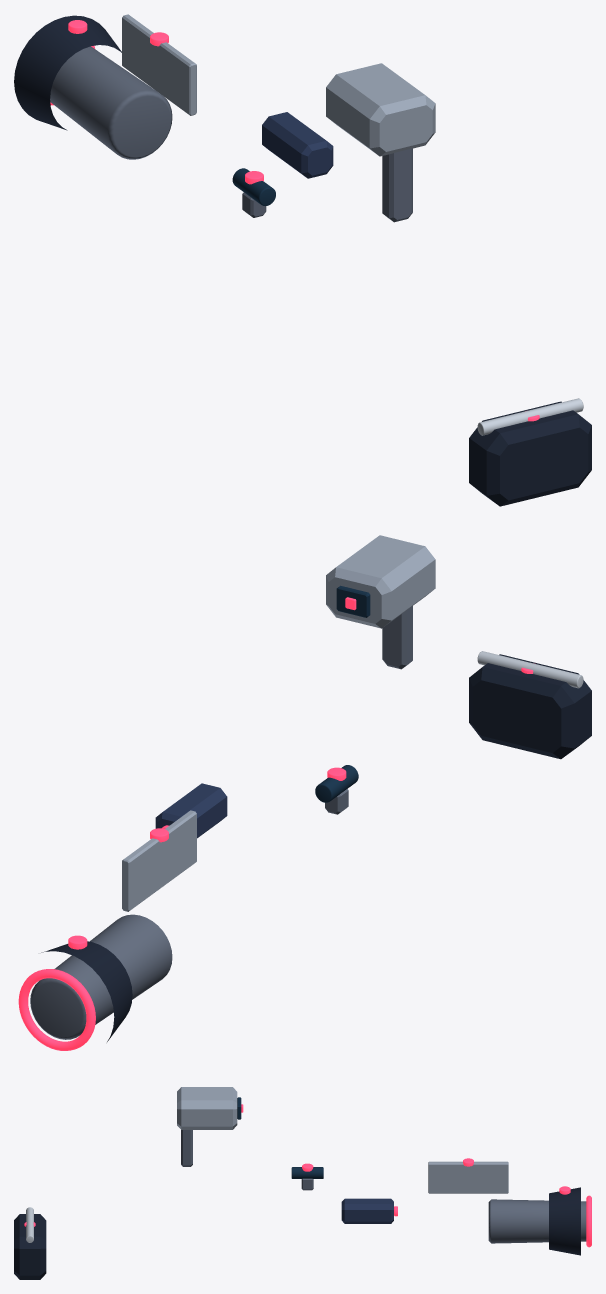
The model's file is tower_filament_optics_s8.glb.
The picture shows the model from 3 angles, top to bottom: view 1: azimuth 30°, elevation 25°; view 2: azimuth 150°, elevation 25°; view 3: azimuth 270°, elevation 25°; orthographic projection. The views are drawn at different scales.
Visible parts, largest first — view 1: filament_counterweight, filament_tube_ext, filament_optics_head, filament_lens_hood, filament_stab_fin, filament_rangefinder, filament_optics_mast, filament_counterweight_bar, filament_sight_glass; view 2: filament_counterweight, filament_tube_ext, filament_optics_head, filament_stab_fin, filament_lens_hood, filament_tube_ext_ring, filament_rangefinder, filament_optics_mast, filament_counterweight_bar, filament_sight_glass, filament_optics_lens; view 3: filament_tube_ext, filament_stab_fin, filament_optics_head, filament_lens_hood, filament_counterweight, filament_rangefinder, filament_optics_mast, filament_sight_glass, filament_tube_ext_ring, filament_counterweight_bar.
Boxes of the visible parts, x1=… form: filament_counterweight: x1=469, y1=401, x2=591, y2=506; filament_tube_ext: x1=50, y1=46, x2=172, y2=159; filament_optics_head: x1=326, y1=63, x2=435, y2=156; filament_lens_hood: x1=14, y1=15, x2=121, y2=130; filament_stab_fin: x1=122, y1=14, x2=196, y2=115; filament_rangefinder: x1=262, y1=112, x2=333, y2=178; filament_optics_mast: x1=382, y1=148, x2=412, y2=222; filament_counterweight_bar: x1=477, y1=398, x2=583, y2=435; filament_sight_glass: x1=232, y1=168, x2=275, y2=206; filament_counterweight: x1=469, y1=654, x2=591, y2=759; filament_tube_ext: x1=30, y1=914, x2=172, y2=1039; filament_optics_head: x1=326, y1=535, x2=435, y2=628; filament_stab_fin: x1=122, y1=810, x2=196, y2=911; filament_lens_hood: x1=41, y1=941, x2=132, y2=1041; filament_tube_ext_ring: x1=18, y1=969, x2=95, y2=1050; filament_rangefinder: x1=155, y1=783, x2=227, y2=838; filament_optics_mast: x1=382, y1=606, x2=412, y2=669; filament_counterweight_bar: x1=477, y1=651, x2=583, y2=688; filament_sight_glass: x1=315, y1=765, x2=358, y2=802; filament_optics_lens: x1=336, y1=585, x2=370, y2=617; filament_tube_ext: x1=488, y1=1199, x2=586, y2=1243; filament_stab_fin: x1=428, y1=1161, x2=508, y2=1193; filament_optics_head: x1=177, y1=1087, x2=237, y2=1129; filament_lens_hood: x1=549, y1=1187, x2=580, y2=1255; filament_counterweight: x1=14, y1=1214, x2=46, y2=1279; filament_rangefinder: x1=341, y1=1198, x2=393, y2=1223; filament_optics_mast: x1=181, y1=1130, x2=192, y2=1166; filament_sight_glass: x1=291, y1=1167, x2=323, y2=1178; filament_tube_ext_ring: x1=586, y1=1195, x2=591, y2=1247; filament_counterweight_bar: x1=26, y1=1207, x2=33, y2=1242.
Size of the model in its own units: 0.4132 by 0.9604 by 2.87.
